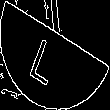L_NE: (36, 25, 74, 85)
